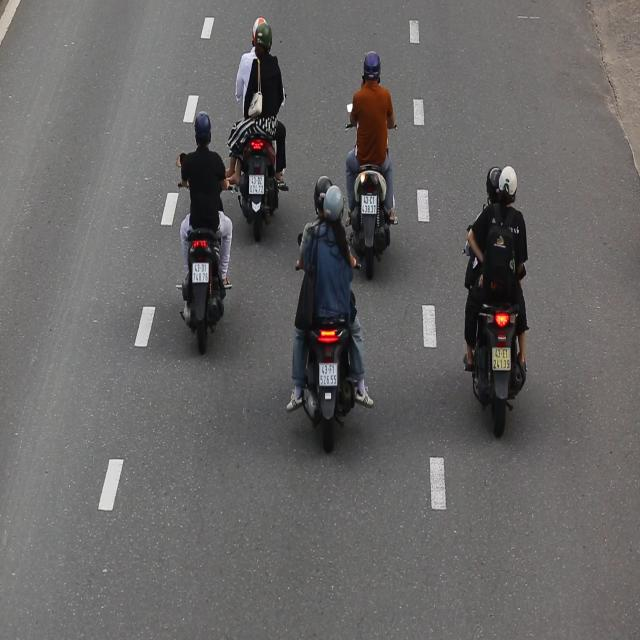motorbike: (461, 153, 534, 438), (288, 175, 363, 440), (176, 107, 232, 352), (231, 16, 291, 239), (343, 43, 401, 268)
